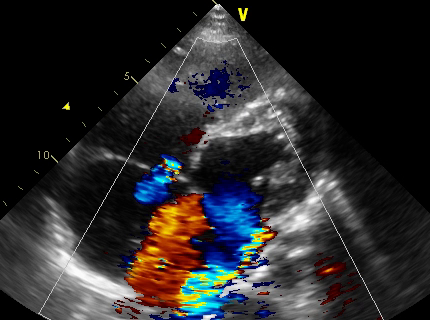TR: (138, 150, 191, 204)
